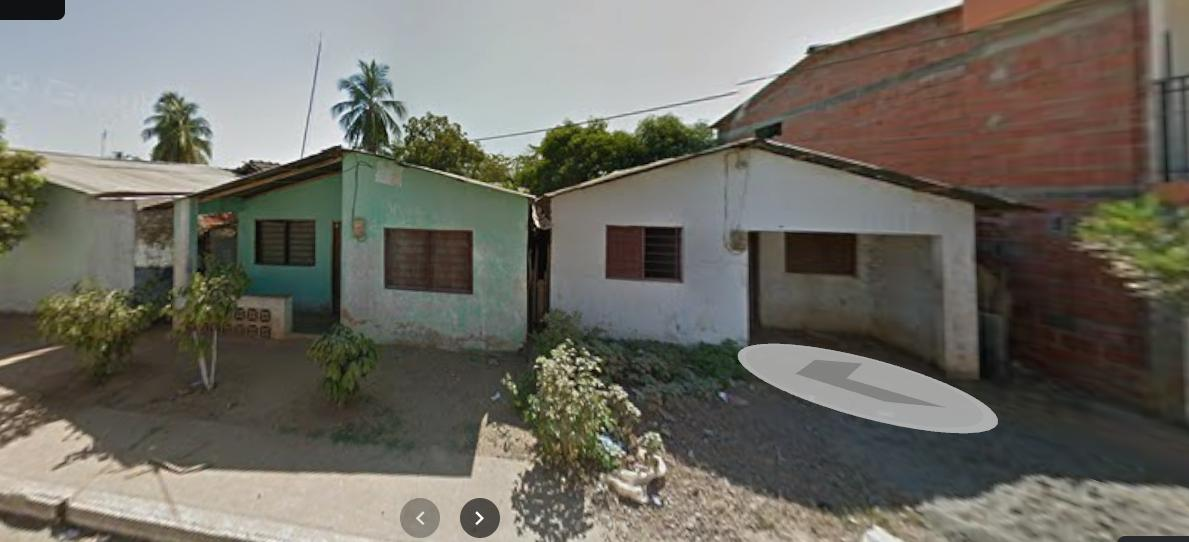casa: (538, 138, 1028, 378), (165, 146, 532, 377)
